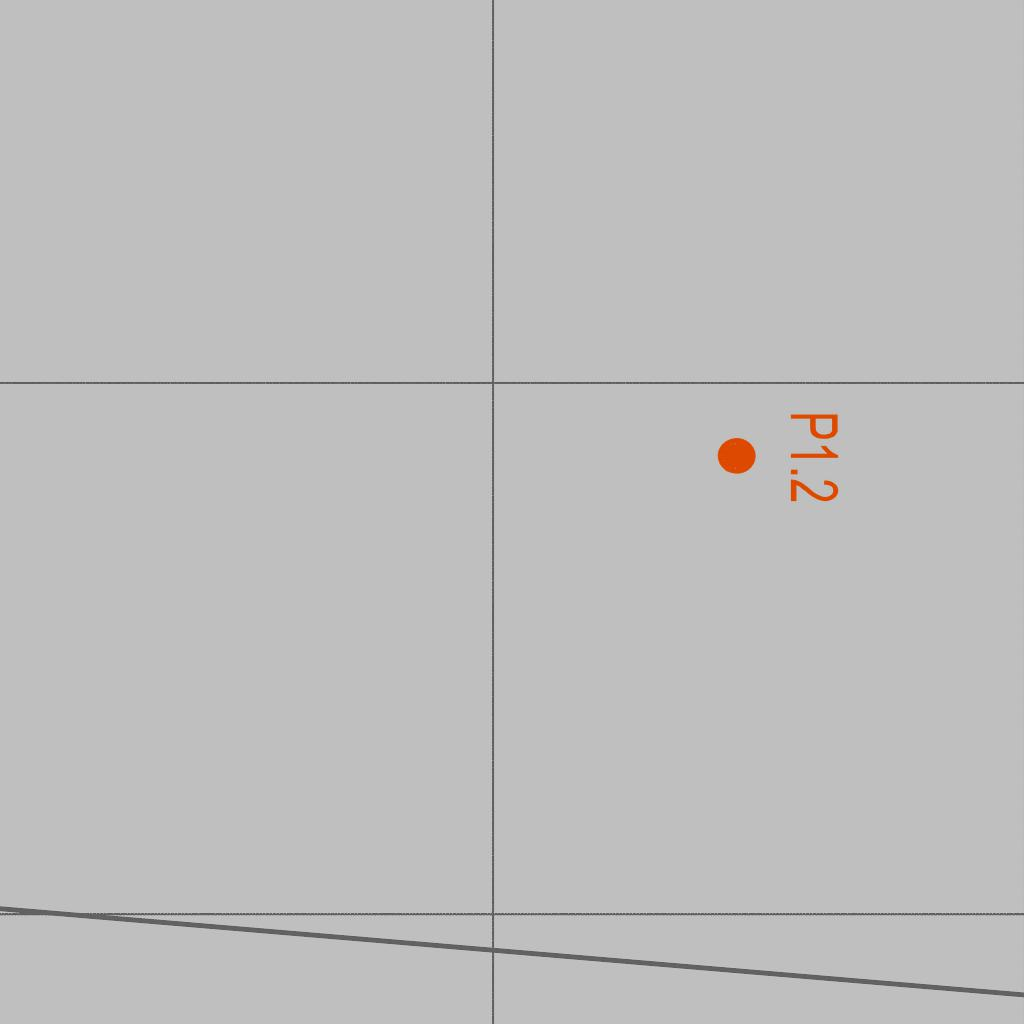Downlight_LED_Einbauleuchten_Flur: (714, 411, 842, 504)
